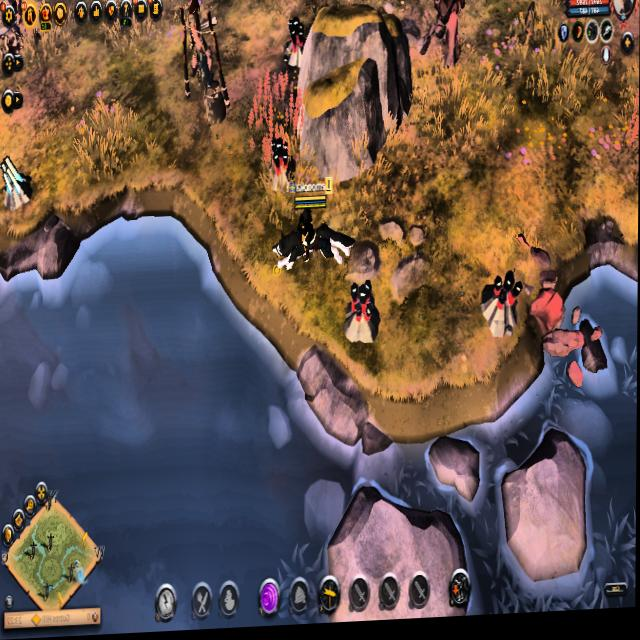ore tier 4: (1, 153, 33, 214)
ore tier 5: (480, 275, 526, 343), (343, 284, 381, 352), (267, 138, 296, 198), (282, 14, 309, 75)
